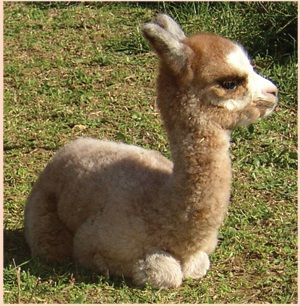alpaca: (23, 12, 279, 290)
